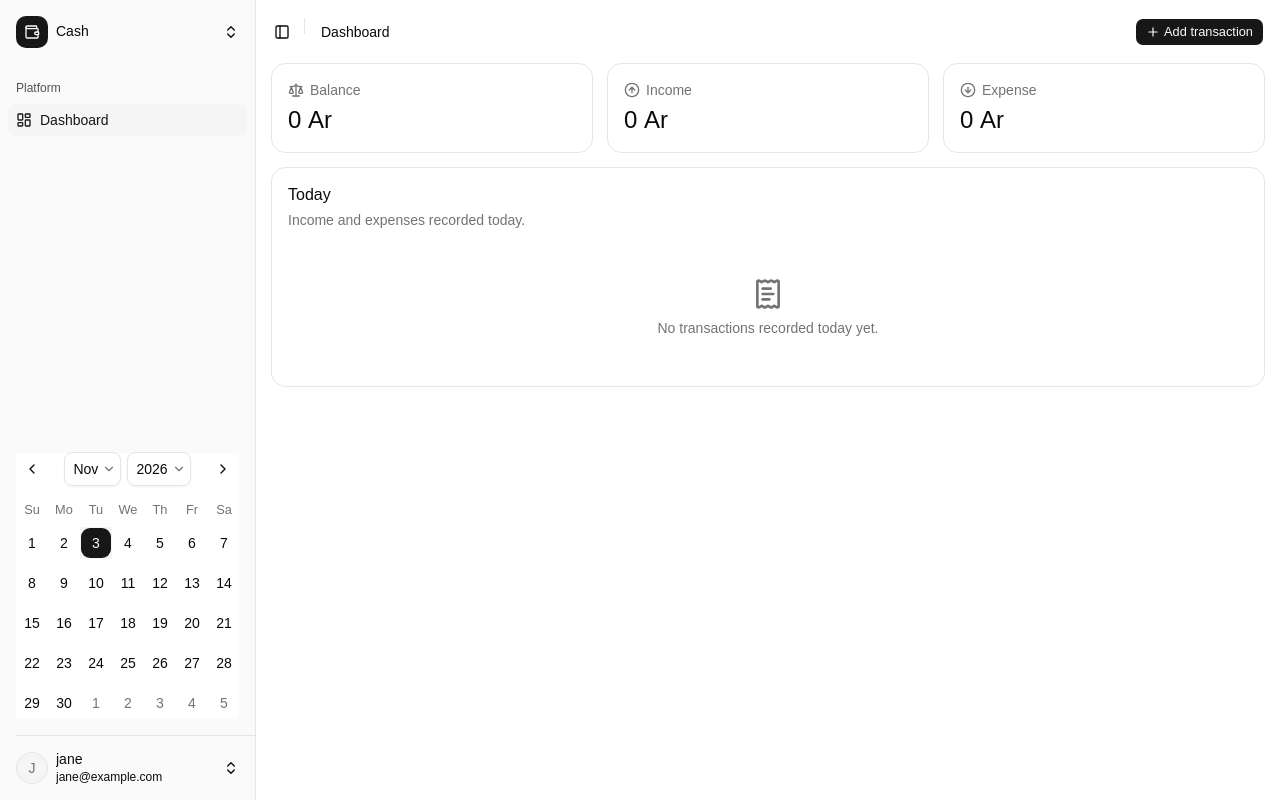
Adding an account › clears the error as soon as the name becomes valid
Click the button "Cash": click(128, 32) [8,8,247,56]
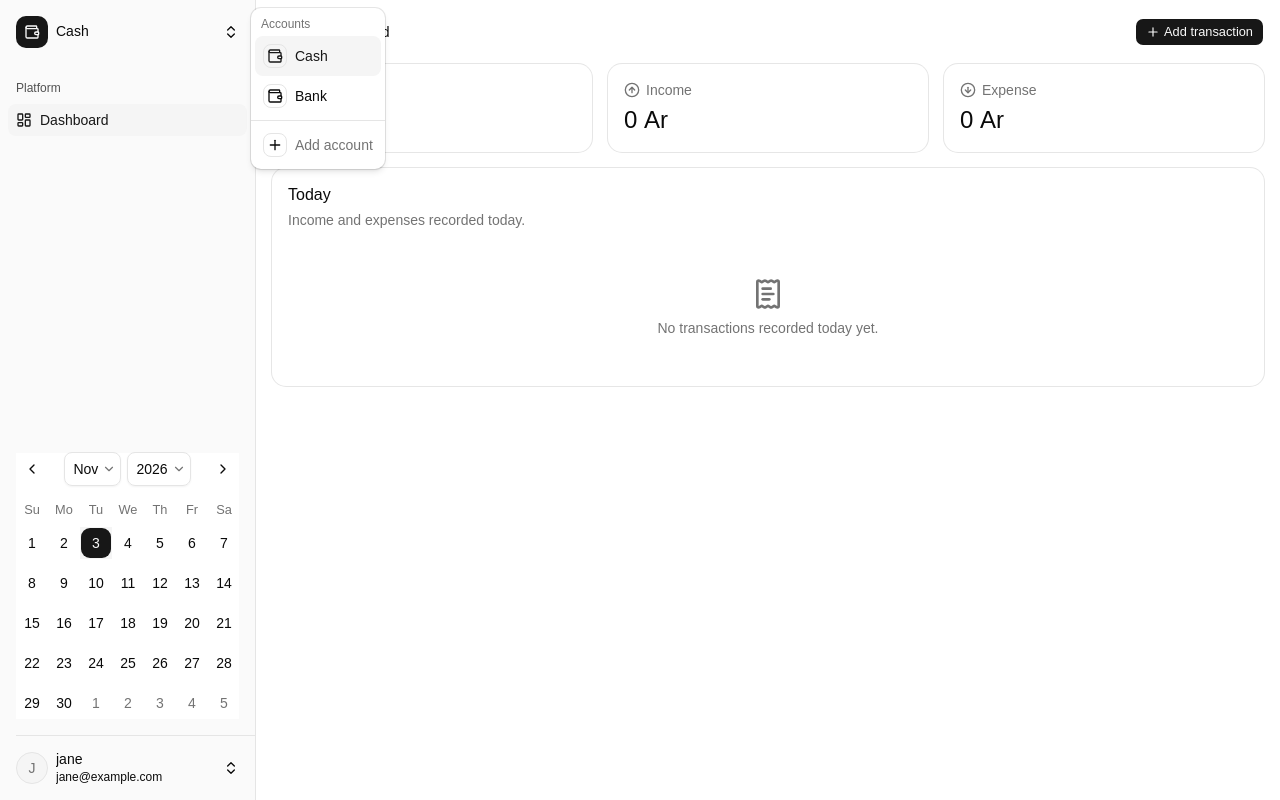
Click the menu item "Add account": click(318, 145) [255,125,381,165]
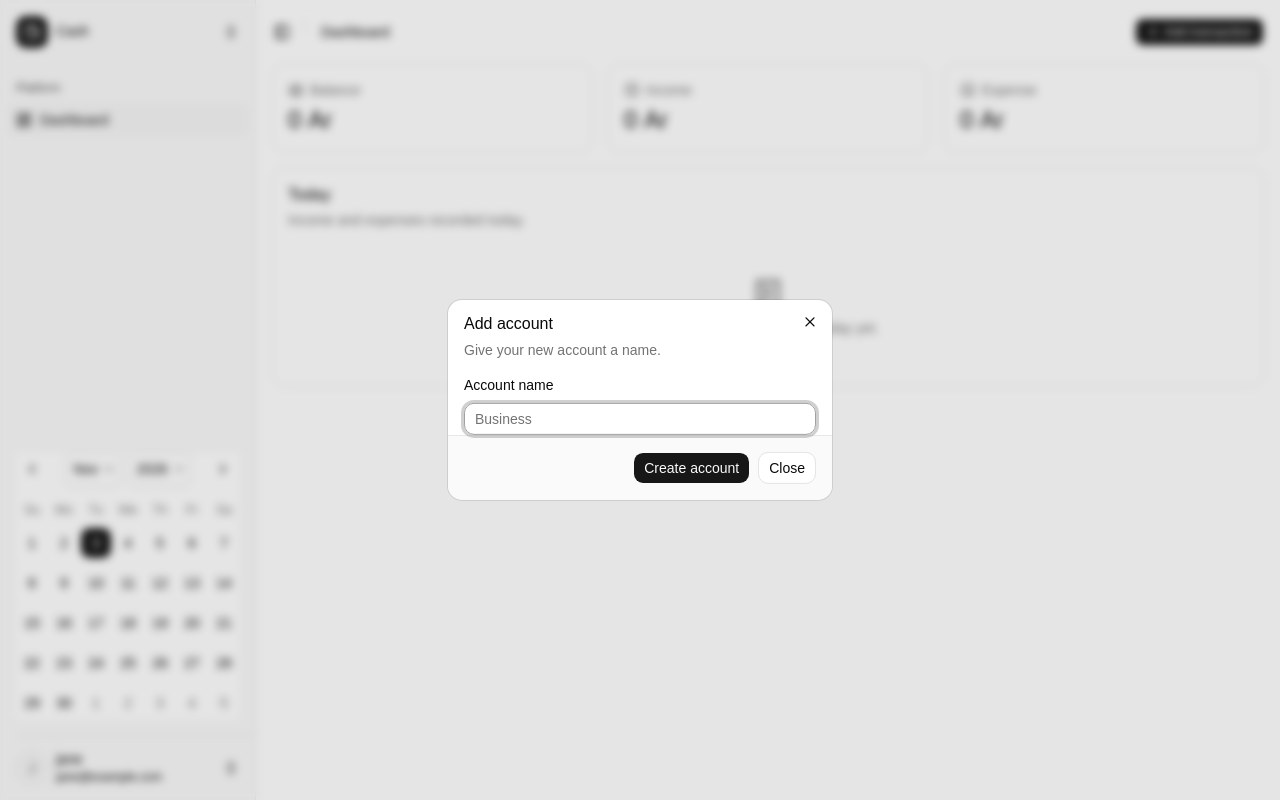
Click the button "Create account": click(692, 468) [633,452,750,484]
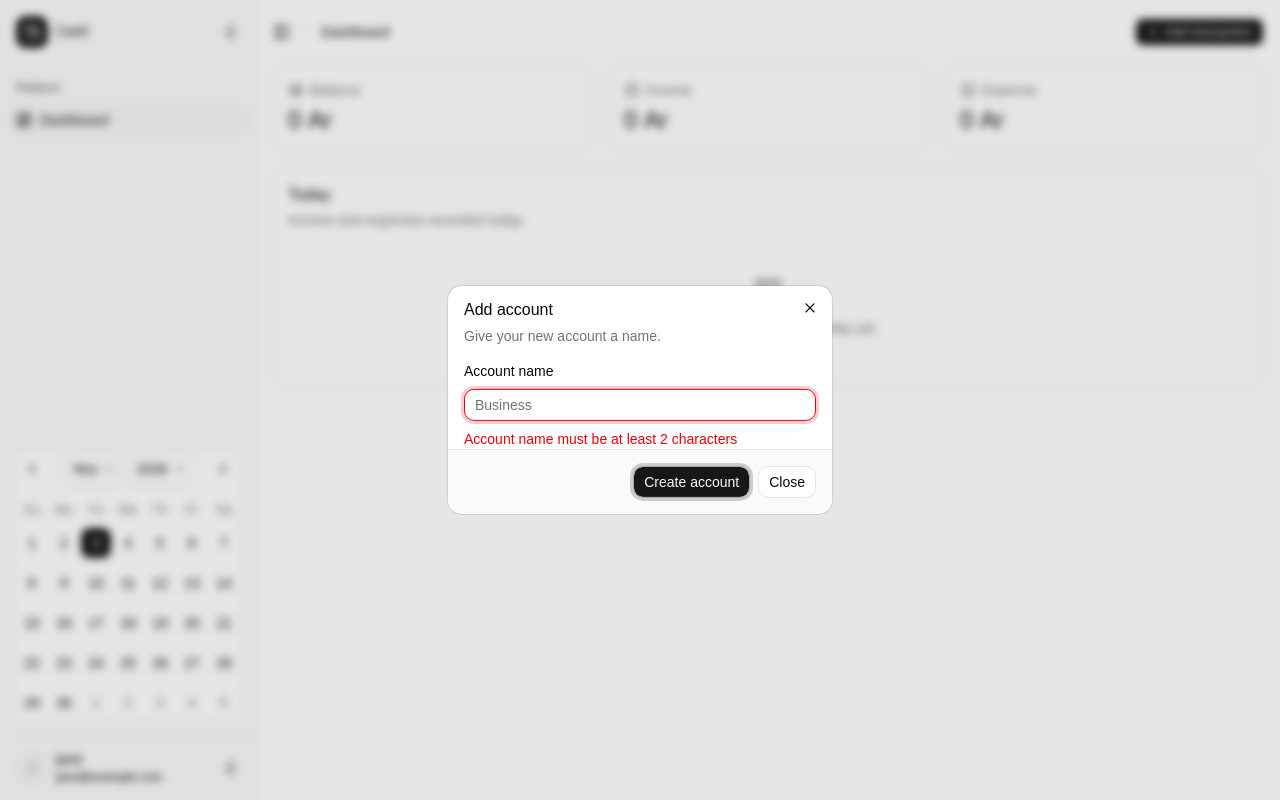
Check: the message "Account name must be at least 2 characters" is shown, box [464,431,737,447]
In the field labelled "Account name": (640, 405) [464,389,816,421], type "Bank"
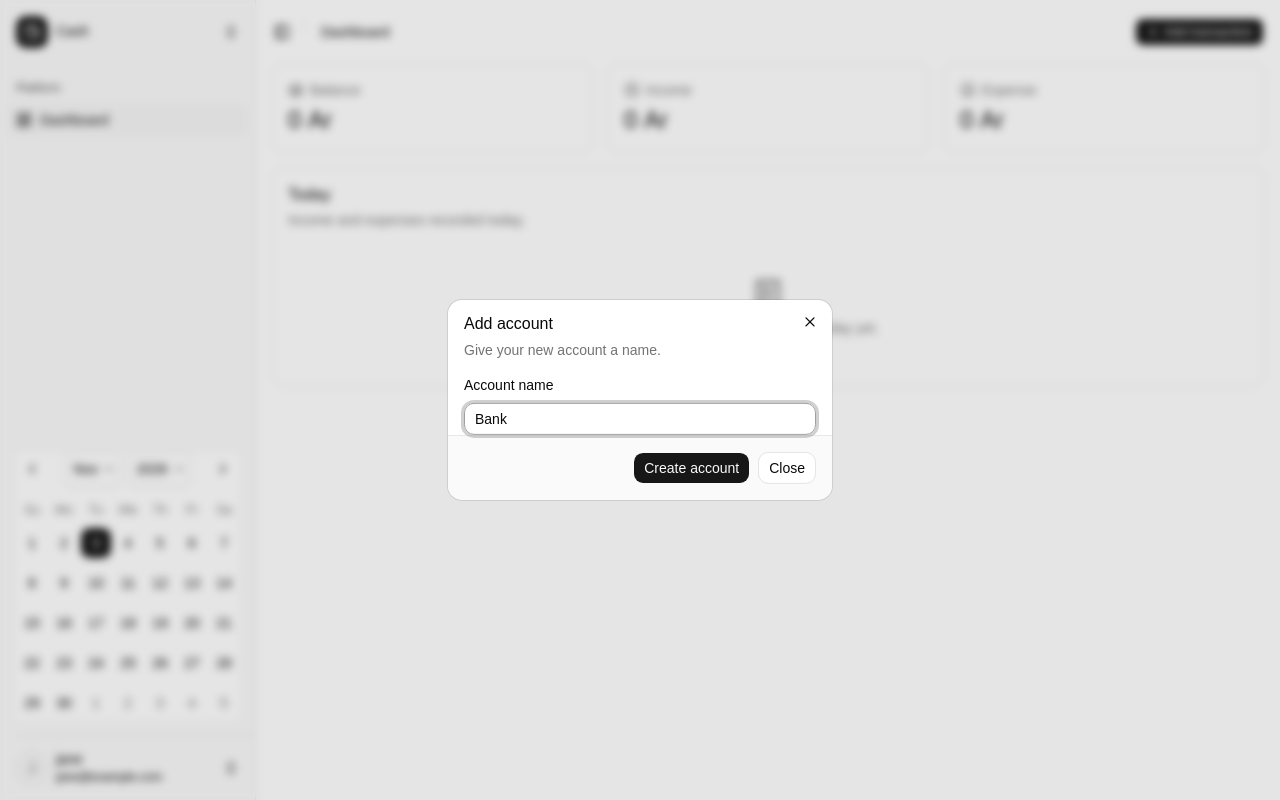
Check: the message "Account name must be at least 2 characters" is gone
